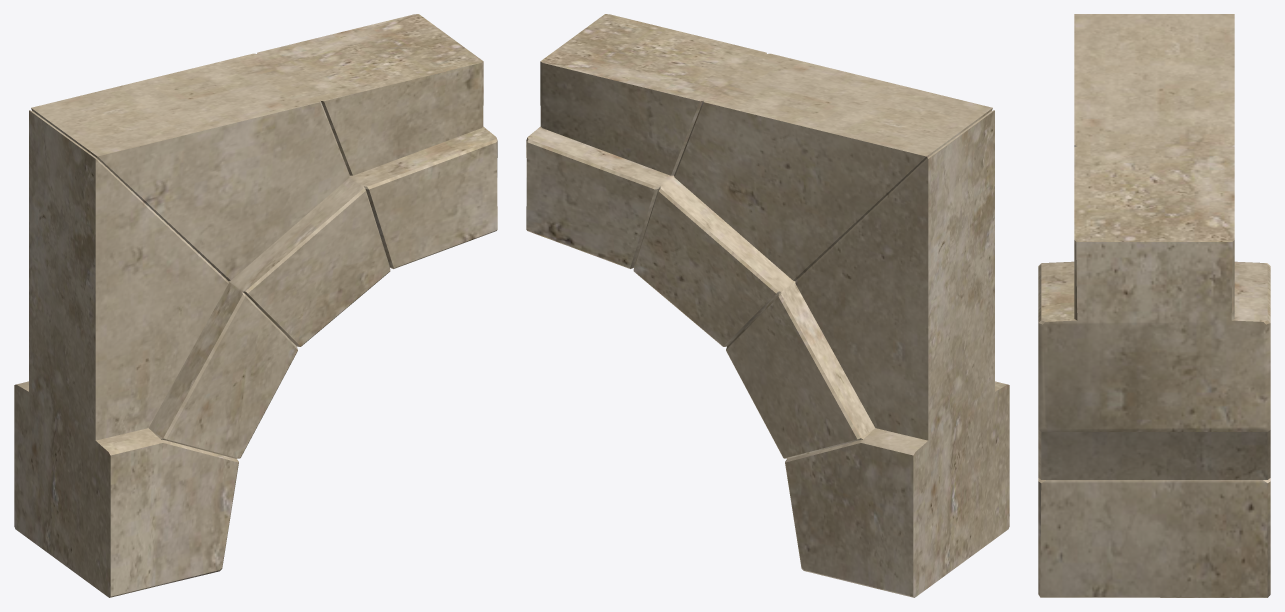
File: inner_bent_half.FBX
The picture shows the model from 3 angles, left to right: view 1: azimuth 30°, elevation 25°; view 2: azimuth 150°, elevation 25°; view 3: azimuth 270°, elevation 25°; orthographic projection. The views are drawn at different scales.
Parts seen in each view (by area): view 1: Box294; view 2: Box294; view 3: Box294.
Part boxes in pixels (box(x1,y1,x2,y2)): Box294: box(14, 14, 497, 597); Box294: box(526, 14, 1009, 597); Box294: box(1038, 14, 1270, 597).
Bounding box in the file's own units: 117 × 124 × 50.08.
